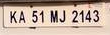1: (39, 10, 46, 23), (79, 9, 85, 23)
2: (71, 10, 79, 23)
3: (92, 10, 100, 23)
4: (85, 9, 92, 23)
5: (32, 10, 39, 23)
A: (19, 10, 26, 24)
J: (59, 9, 67, 23)
K: (9, 10, 18, 23)
M: (50, 9, 59, 23)
